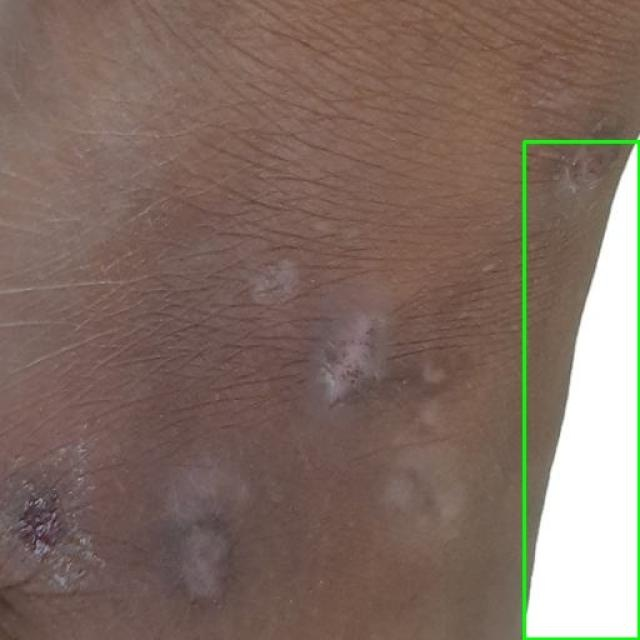Eczema: (524, 141, 639, 639)
